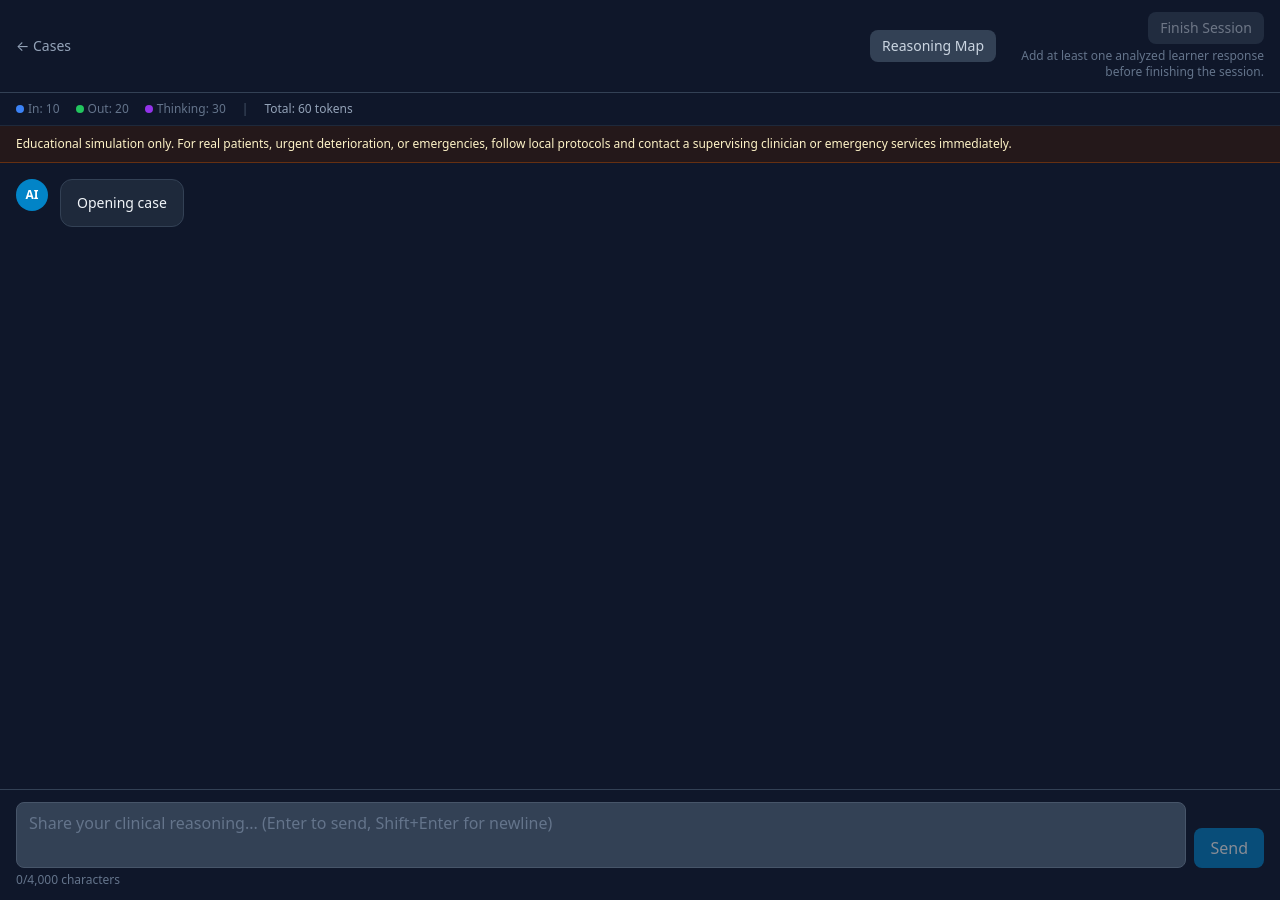
SessionPage › shows restart guidance when streaming is blocked by a changed active case version
The width and height of the screenshot is (1280, 900).
Replace the text in the text box with placeholder "Share your clinical reasoning" with "My reasoning" at (601, 835), box x1=16 y1=802 x2=1186 y2=868
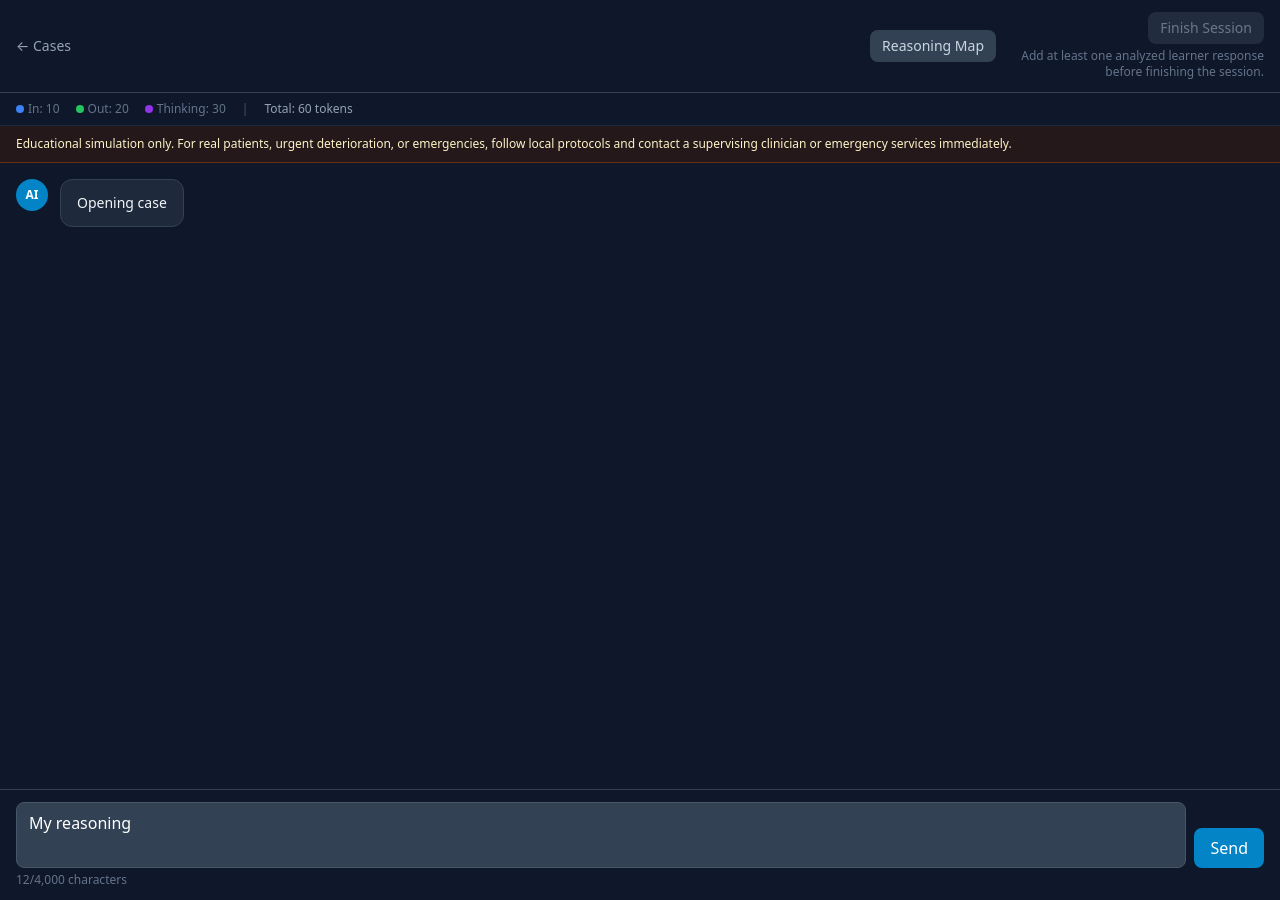
Click the button "Send" at (1229, 848), box x1=1194 y1=828 x2=1264 y2=868
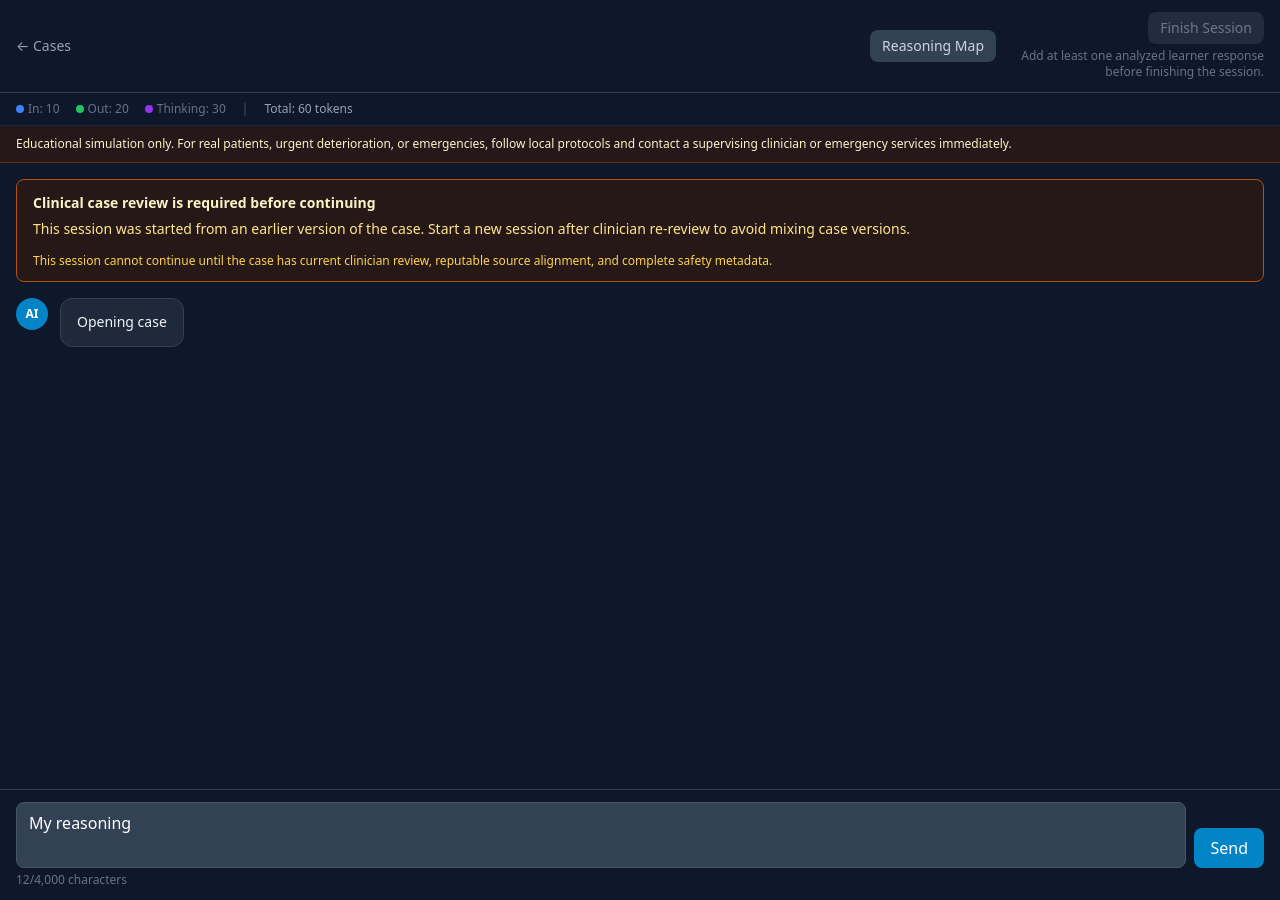
Check: the text "Clinical case review is required before continuing" is shown, box x1=33 y1=192 x2=376 y2=212
Check: the text "Start a new session after clinician re-review" is shown, box x1=33 y1=219 x2=910 y2=238
